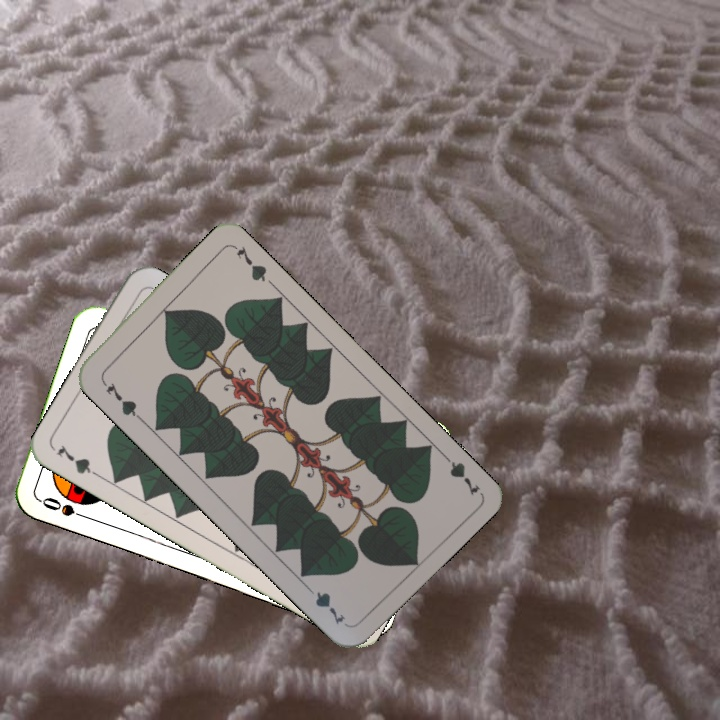G7: (436, 447, 483, 498), (52, 440, 106, 482), (97, 375, 144, 422)
SO: (37, 493, 94, 523)
